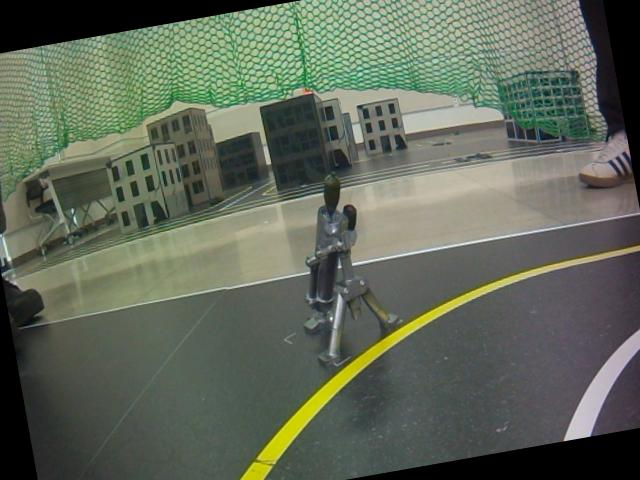Mortar: (275, 161, 412, 377)
